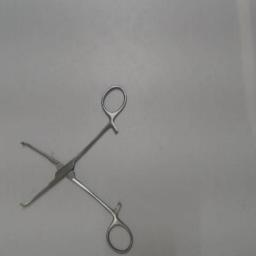Allis Tissue Forceps: (18, 79, 136, 255)
